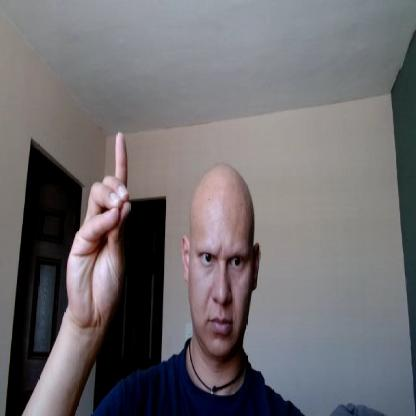D: (67, 131, 132, 331)
